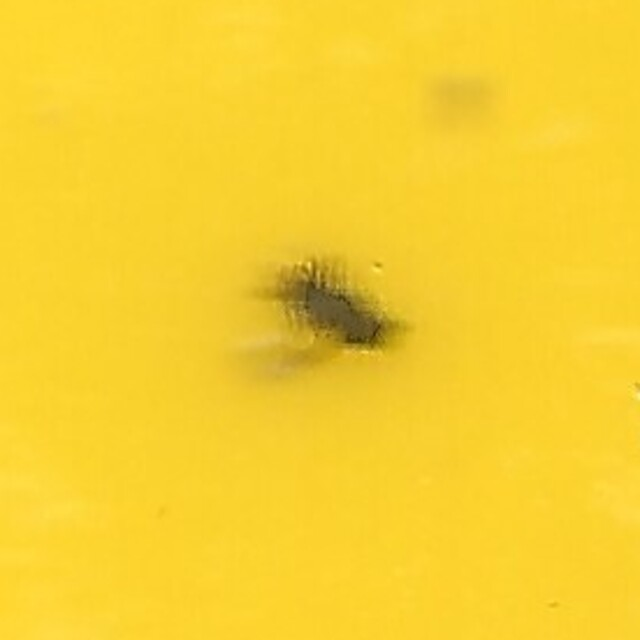Brachycera: (232, 247, 408, 393)
